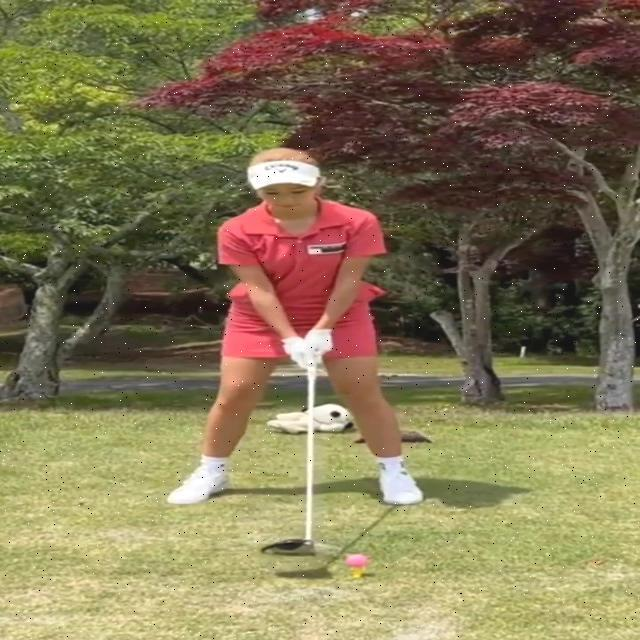ClubHead: (262, 540, 317, 556)
GolfBall: (344, 554, 370, 568)
